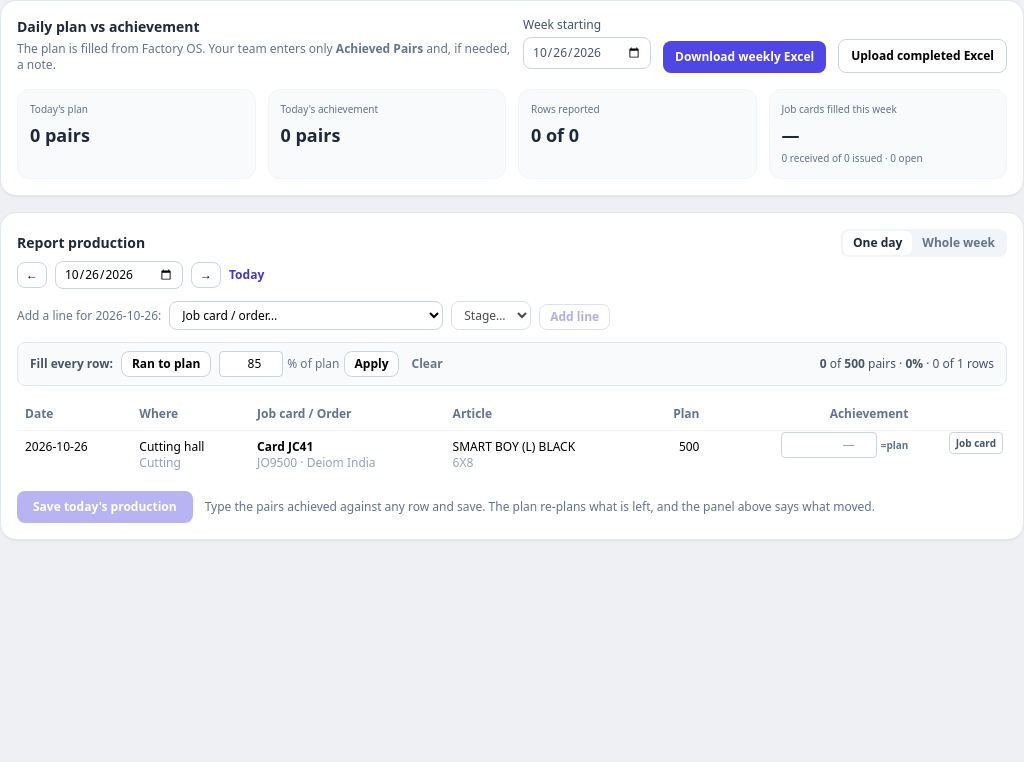
Test: records production typed straight into the table, and says what it changed
Type "425" into the number field named "Pairs achieved for JC41".
click(829, 445); type("425")  # box [781, 432, 877, 458]
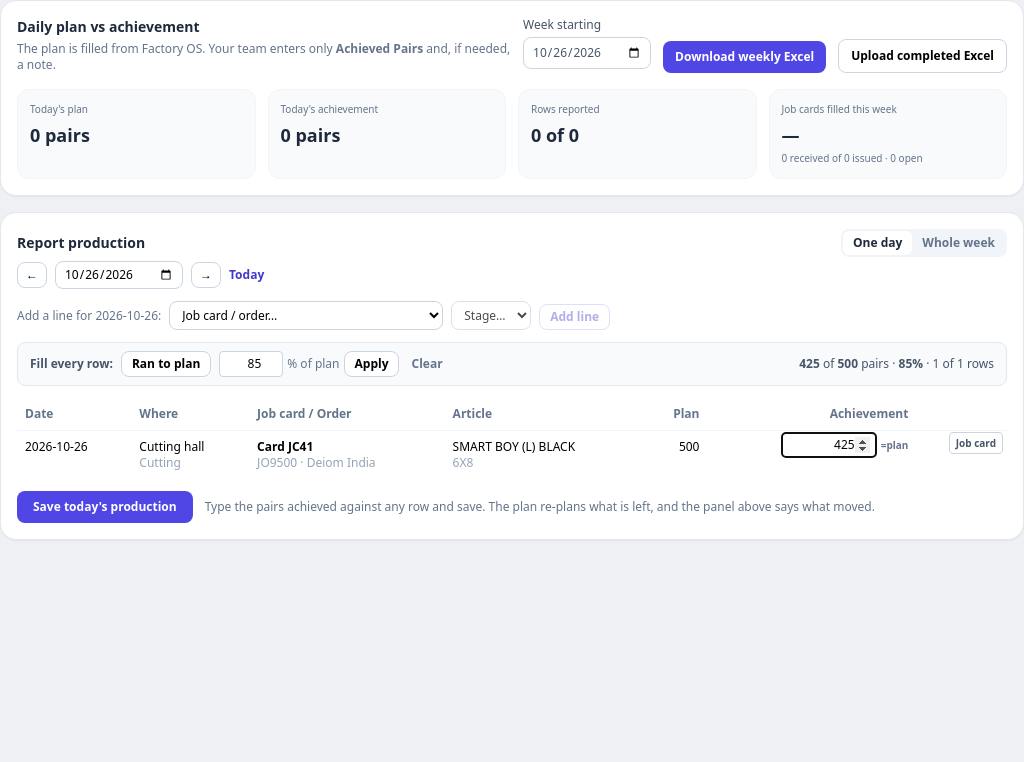
Click the button "Save today's production".
click(105, 507)  # box [17, 491, 193, 523]
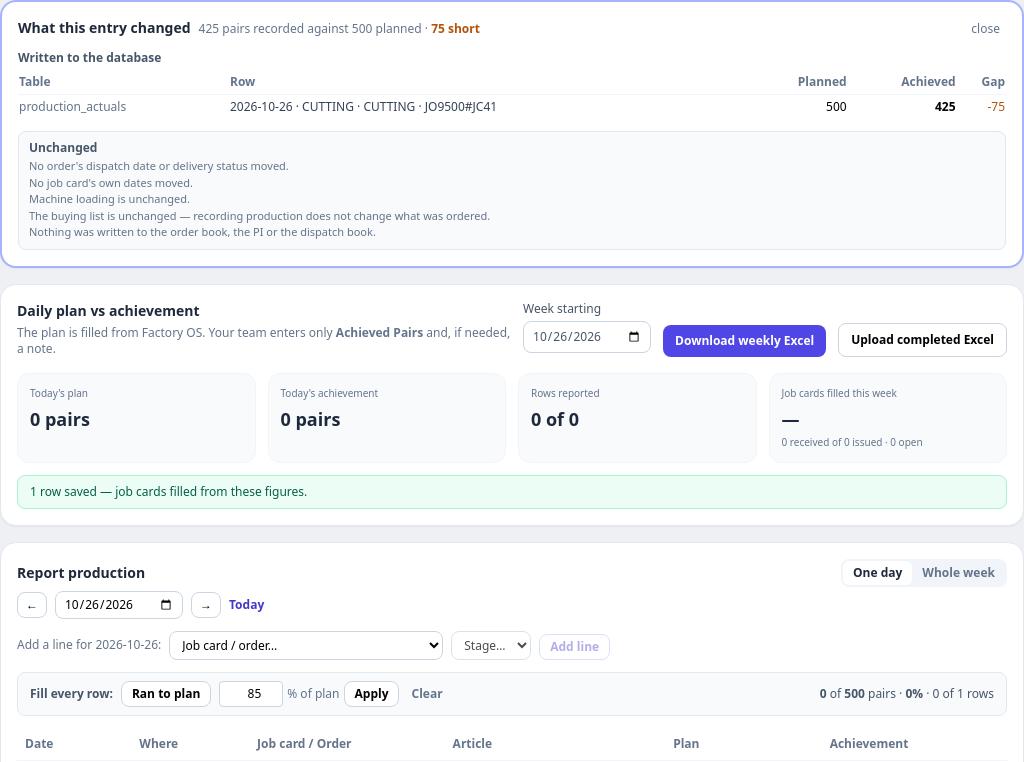
Check: the text "What this entry changed" is shown, box [18, 18, 191, 38]
